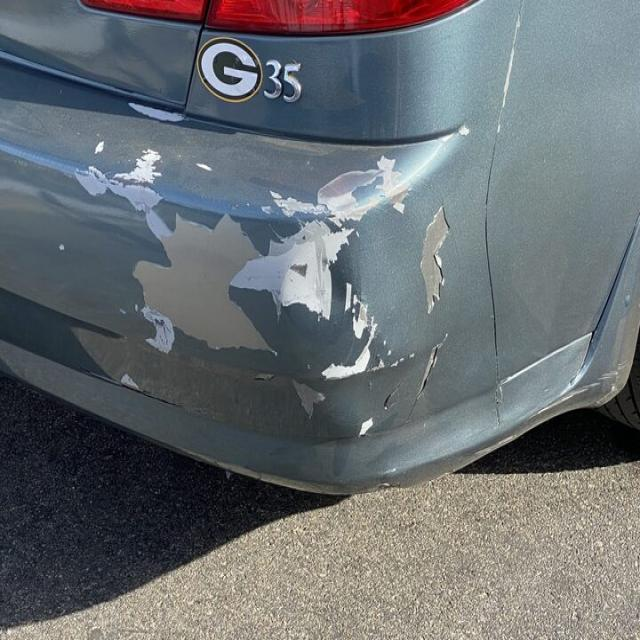paint-chip: (66, 136, 331, 441), (231, 149, 415, 325), (375, 184, 465, 459)
